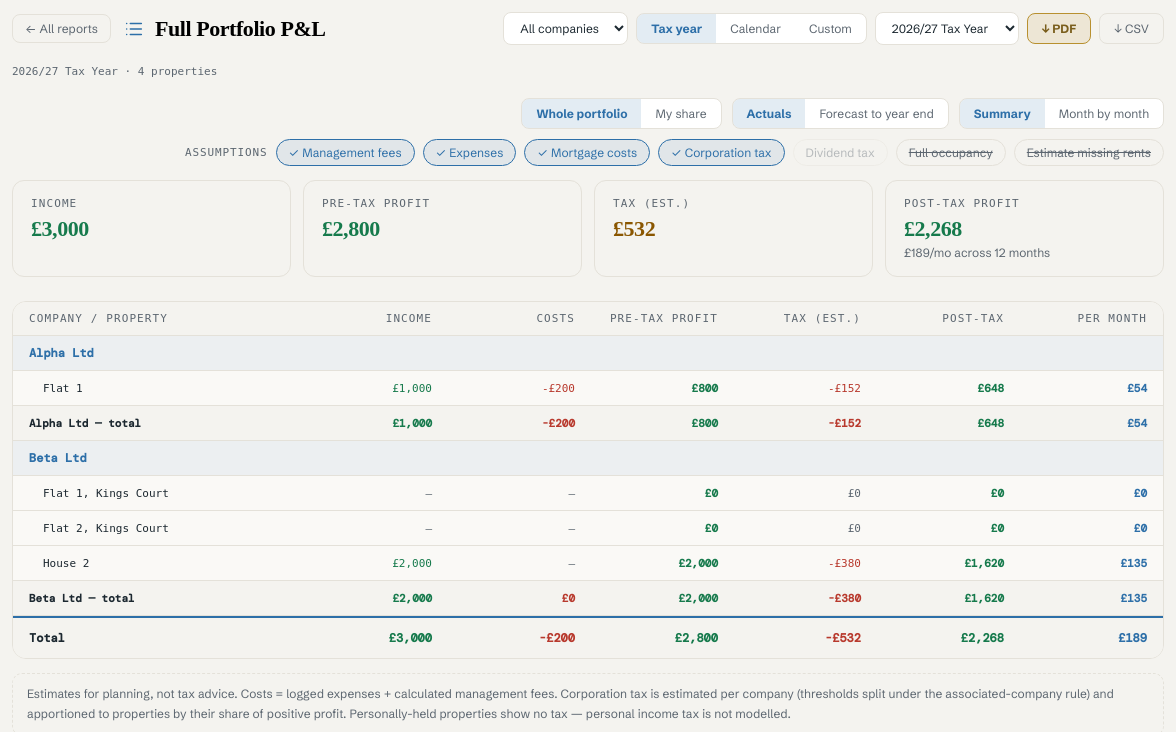
Test: Full Portfolio P&L report › strips costs via the Include chips and applies dividend tax in My share mode
The width and height of the screenshot is (1176, 732).
Expected: the text "Alpha Ltd — total" is shown, [29,416,141,430]
Expected: the button "Dividend tax" is disabled, [792,139,888,166]
// Untick corporation tax → exclusion note appears.
Click the button "✓ Corporation tax" at (721,152), box [658,139,785,166]
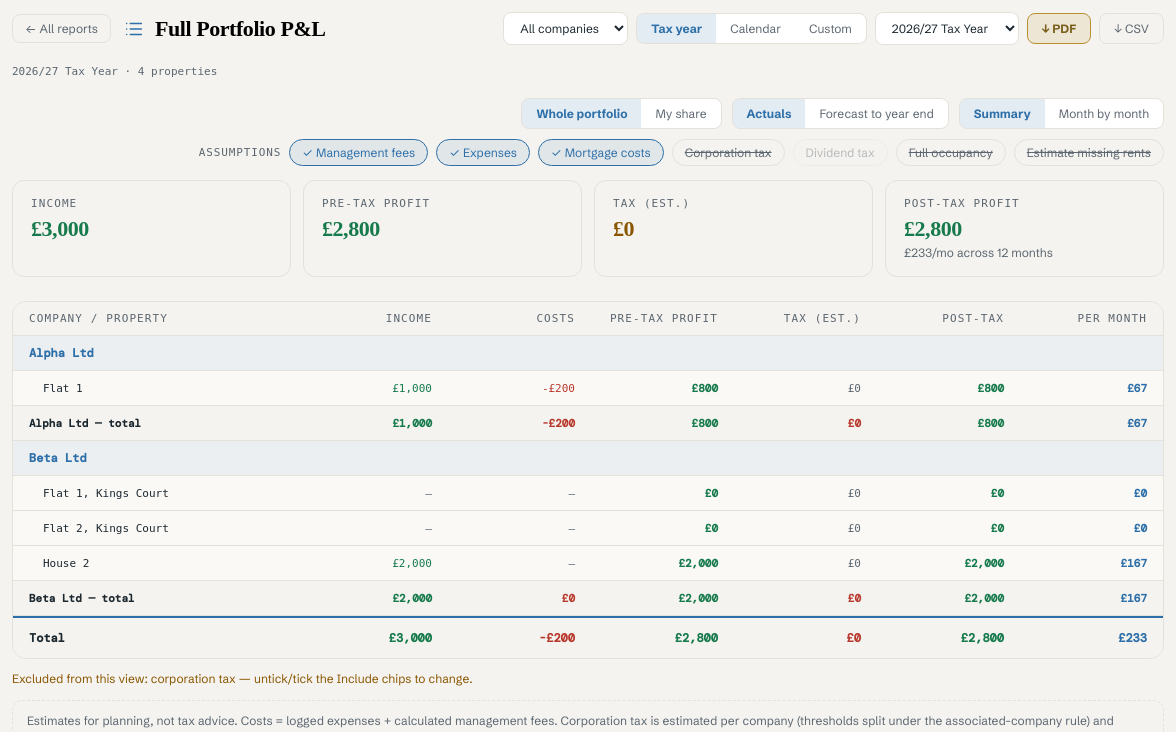
Expected: the text "Excluded from this view: corporation tax" is shown, [12,671,472,686]
// Untick management fees too — both listed.
Click the button "✓ Management fees" at (359,152), box [289,139,428,166]
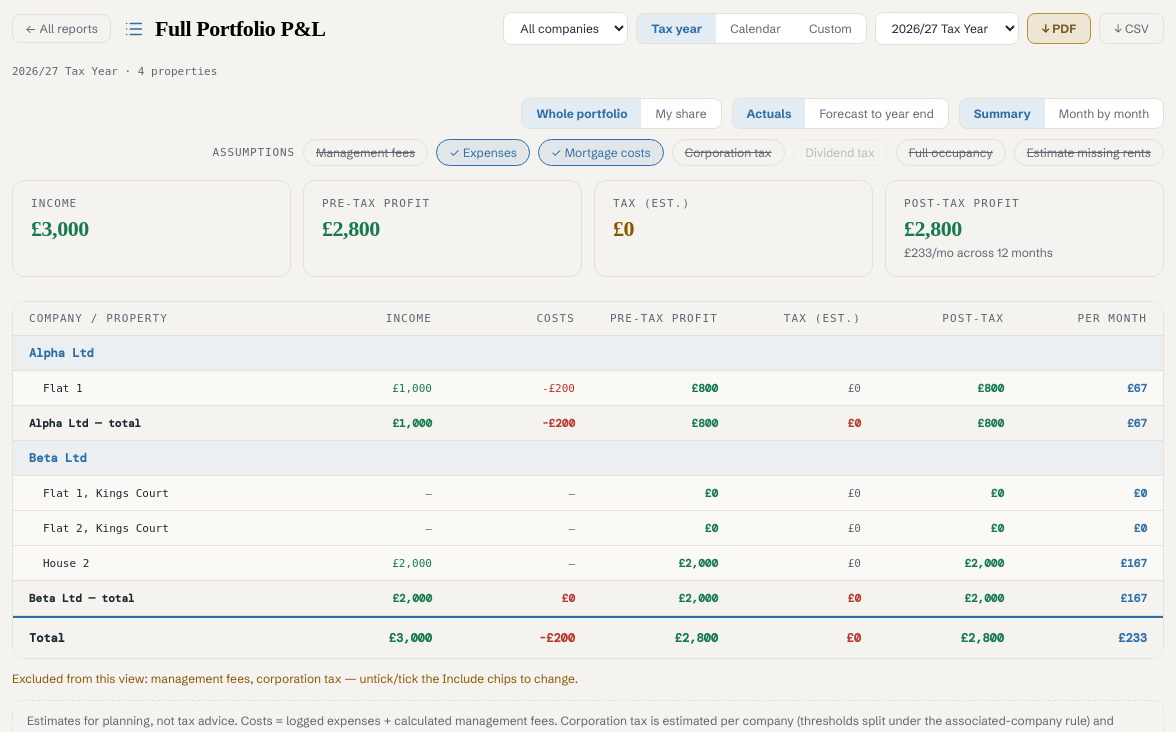
Expected: the text "Excluded from this view: management fees, corporation tax" is shown, [12,671,578,686]
Click the button "Corporation tax" at (728,152), box [672,139,785,166]
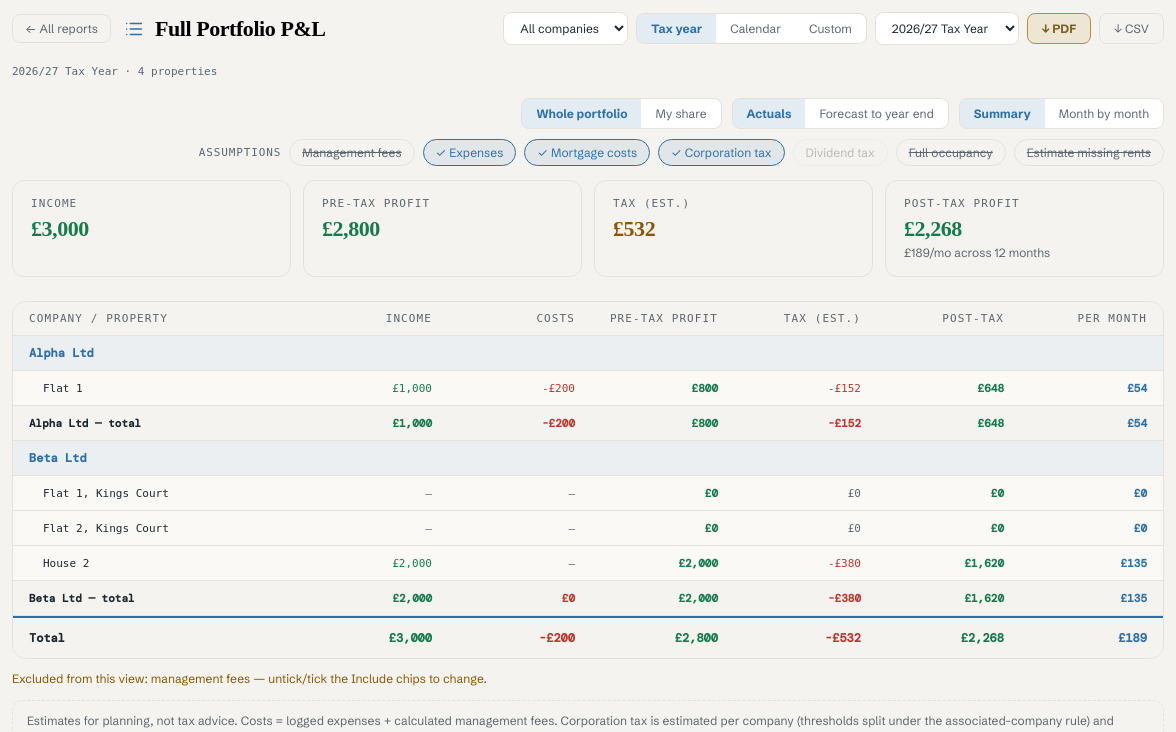
Click the button "My share" at (681,114), box [642,99,720,128]
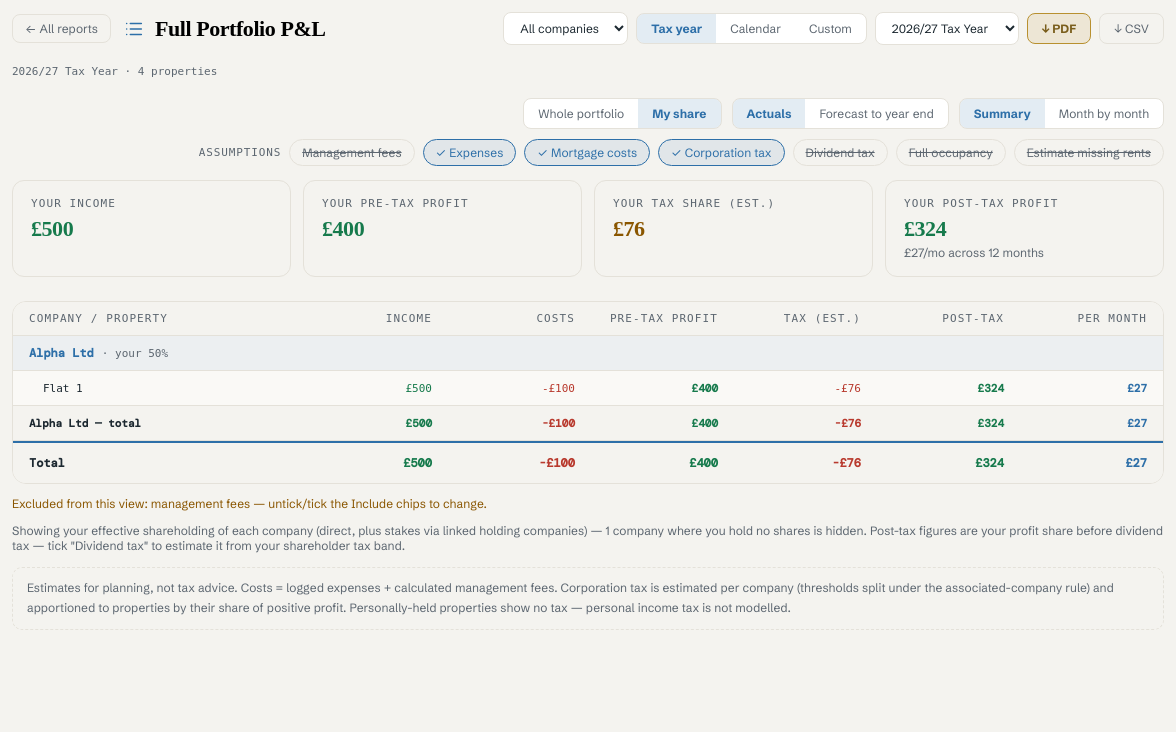
Expected: the button "Dividend tax" is enabled
Click the button "Dividend tax" at (840,152), box [792,139,888,166]
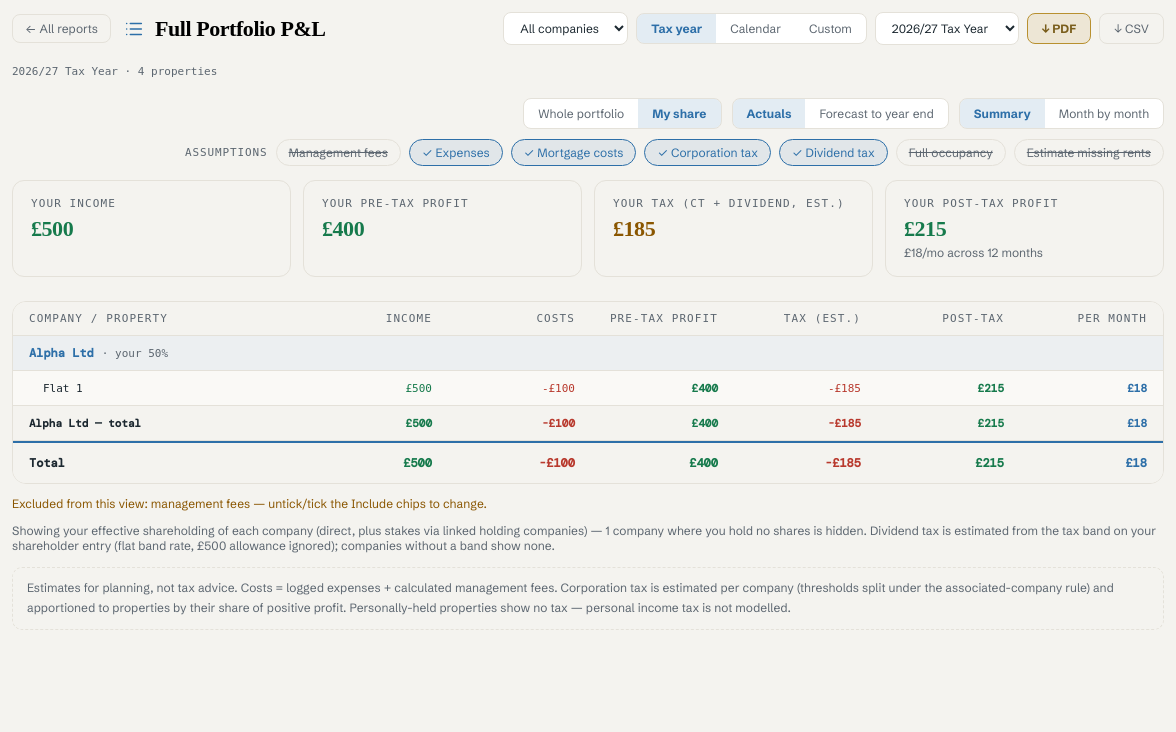
Expected: the text "Dividend tax is estimated from the tax band" is shown, [12,523,1156,553]
Expected: the text "Your tax (CT + dividend, est.)" is shown, [613,197,854,210]
